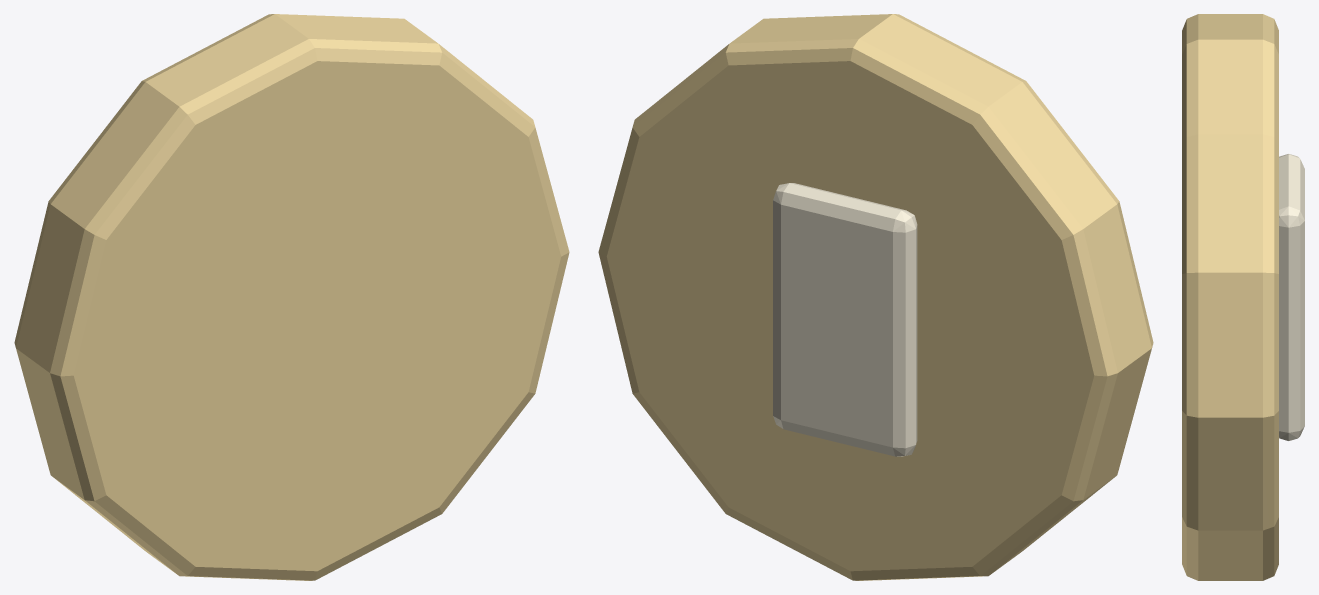
Rendered from coin.glb.
3 views of the same model, side by side, from view 1: azimuth 30°, elevation 25°; view 2: azimuth 150°, elevation 25°; view 3: azimuth 270°, elevation 25° (orthographic). The views are drawn at different scales.
Parts seen in each view (by area): view 1: Sculpt__Hammered brass; view 2: Sculpt__Hammered brass, Sculpt__Ivory; view 3: Sculpt__Hammered brass, Sculpt__Ivory.
Part boxes in pixels (x1=…): Sculpt__Hammered brass: x1=14, y1=14, x2=569, y2=580; Sculpt__Hammered brass: x1=598, y1=14, x2=1153, y2=580; Sculpt__Ivory: x1=773, y1=183, x2=917, y2=456; Sculpt__Hammered brass: x1=1182, y1=14, x2=1278, y2=580; Sculpt__Ivory: x1=1279, y1=154, x2=1304, y2=440.
Size of the model in its own units: 0.44 by 0.44 by 0.095.
